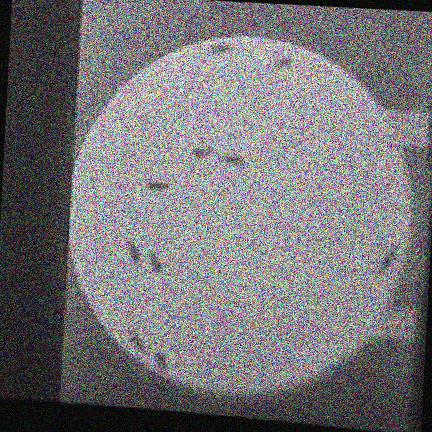fly: (378, 246, 398, 272), (128, 329, 145, 353), (149, 252, 162, 275), (126, 241, 139, 263), (190, 146, 213, 158), (145, 181, 169, 192), (206, 43, 230, 54), (221, 154, 244, 165), (153, 351, 166, 370), (273, 57, 291, 70)
